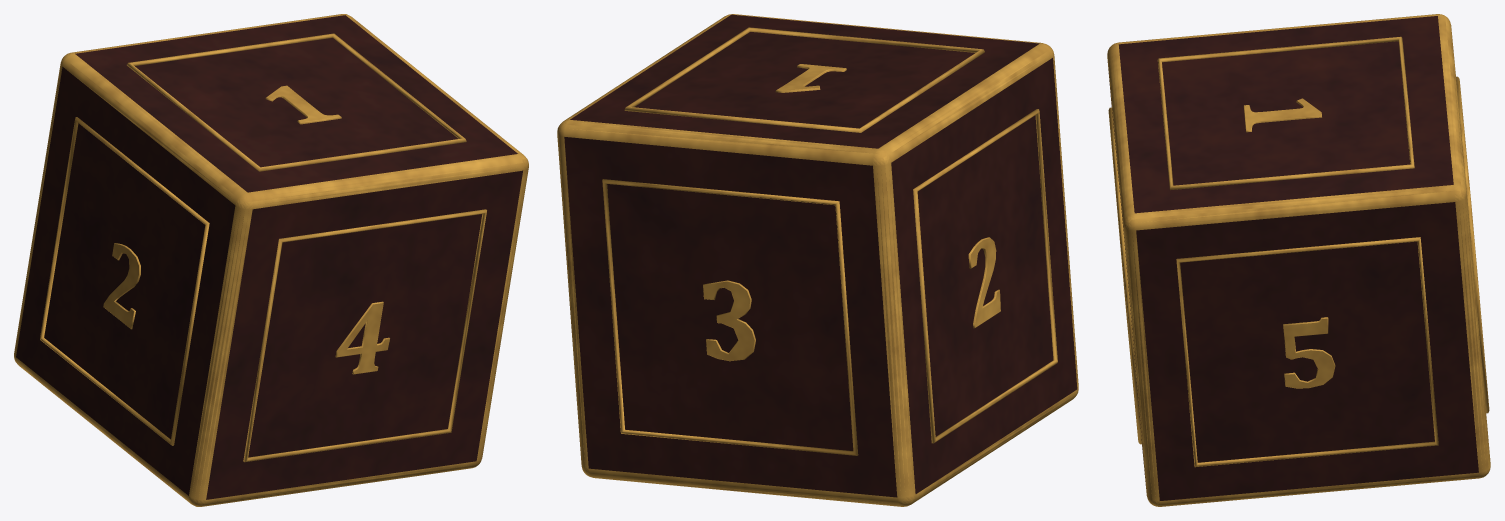
3 views of the same model, side by side, from view 1: azimuth 30°, elevation 25°; view 2: azimuth 150°, elevation 25°; view 3: azimuth 270°, elevation 25° (orthographic). The views are drawn at different scales.
Visible parts, largest first — view 1: D6; view 2: D6; view 3: D6.
Boxes of the visible parts, x1,y1,x2,y2 form: D6: (14, 14, 528, 506); D6: (557, 14, 1078, 506); D6: (1107, 14, 1490, 506).
Bounding box in the file's own units: 0.74 × 0.7601 × 0.7189.
Materials: 2 (2 with a texture image).
